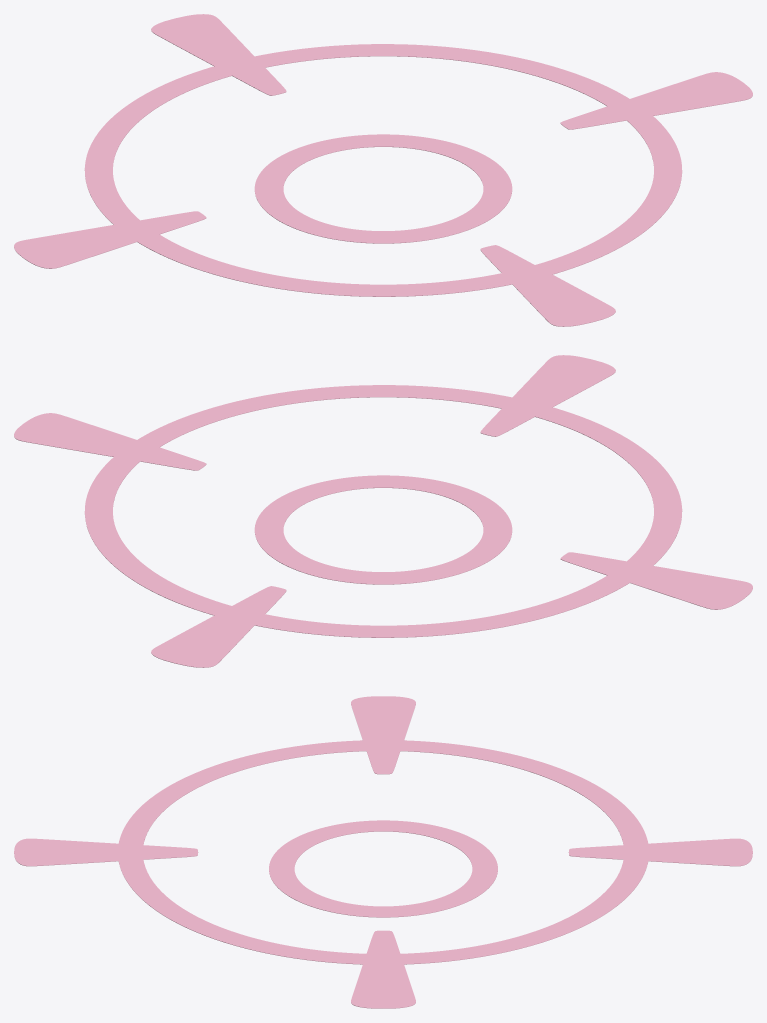
Rendered from Serika.fbx.
3 renders of one model, top to bottom at view 1: azimuth 30°, elevation 25°; view 2: azimuth 150°, elevation 25°; view 3: azimuth 270°, elevation 25°, orthographic. The views are drawn at different scales.
Visible parts, largest first — view 1: Plane; view 2: Plane; view 3: Plane.
Part boxes in pixels (x1=…): Plane: x1=14, y1=14, x2=752, y2=326; Plane: x1=14, y1=355, x2=752, y2=667; Plane: x1=14, y1=696, x2=752, y2=1008.
Size of the model in its own units: 39.66 by 0.9981 by 39.66.
